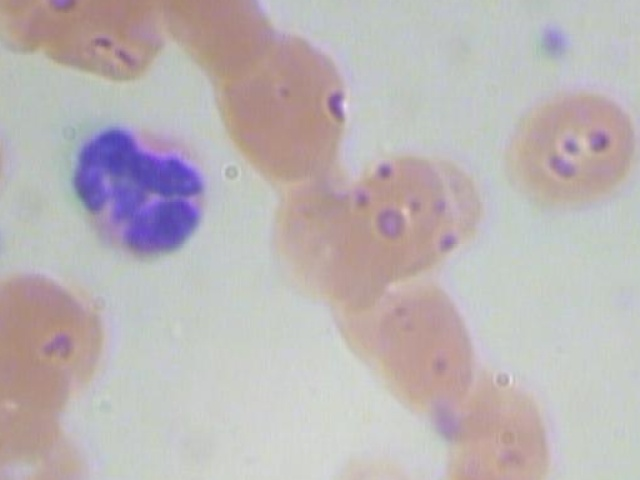Platelets: (532, 16, 584, 66), (0, 216, 21, 267)
RBC: (209, 21, 349, 192), (351, 282, 501, 414), (505, 84, 640, 216), (0, 269, 119, 401), (0, 351, 119, 480), (337, 155, 457, 279), (269, 176, 388, 300), (441, 378, 554, 480), (306, 431, 456, 480)
WBC: (59, 114, 212, 272)
